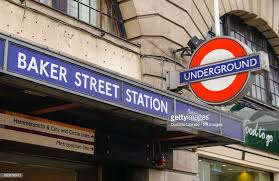London Underground: (179, 35, 264, 103)
